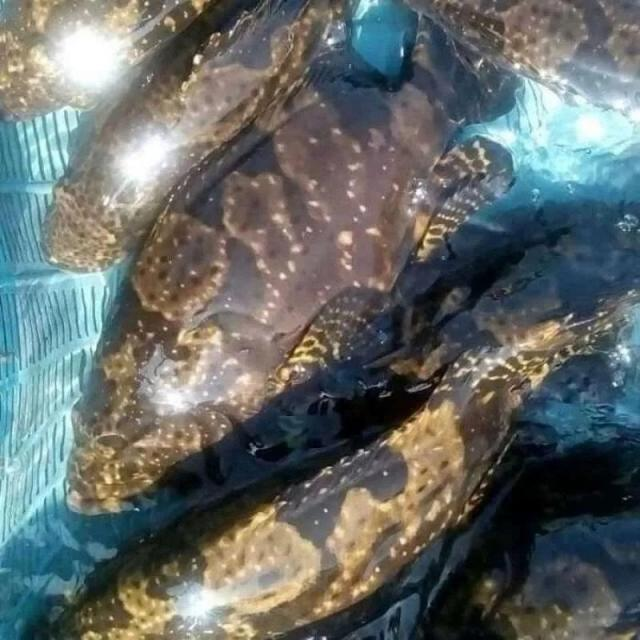grouper: (41, 67, 533, 521), (41, 318, 609, 640), (33, 0, 356, 279)
